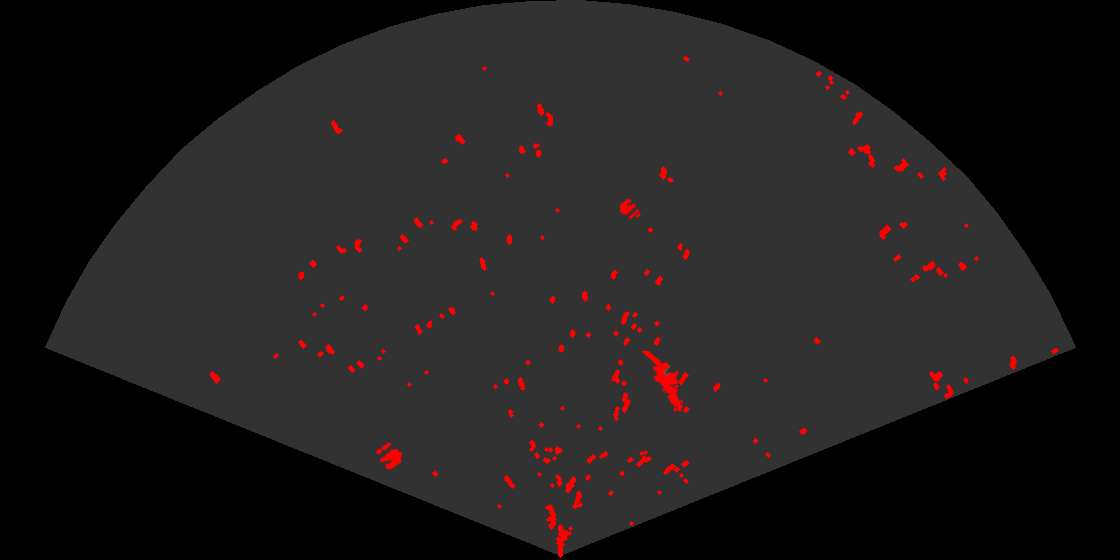ball: (375, 441, 404, 471), (618, 197, 641, 221)
frogman: (640, 351, 685, 413)
